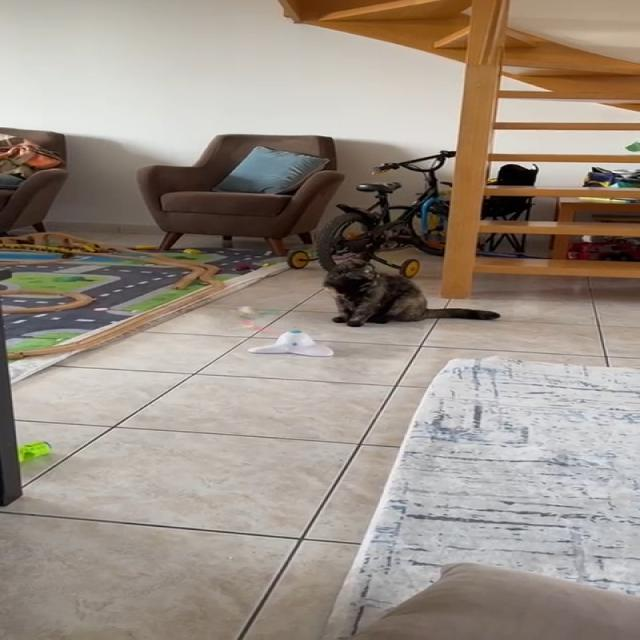authorized: (321, 254, 500, 327)
